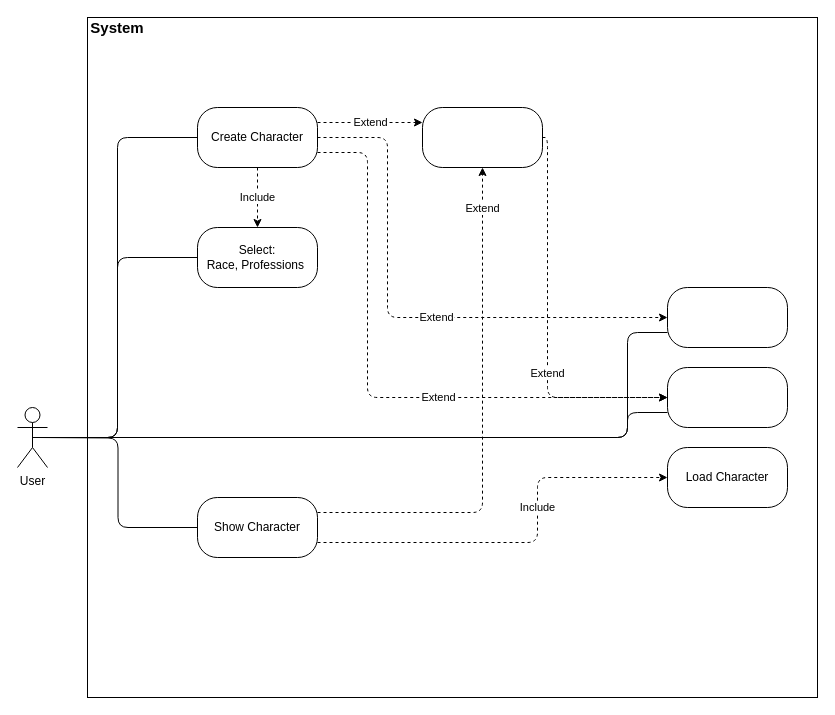
The diagram is 835 pixels wide and 715 high, and some of its shapes have lost their labels. The centre of each missing label's shape, as x and y in pixels:
"Edit Character" belongs at point 482,137.
"Export Character" belongs at point 727,317.
"Save Character" belongs at point 727,397.
